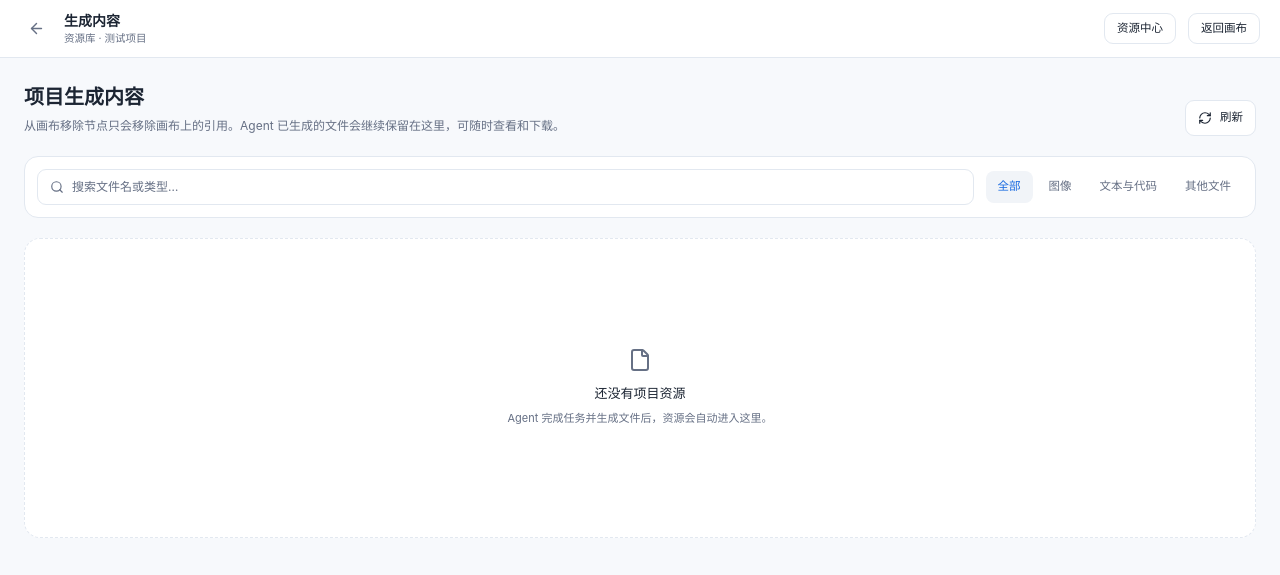
Test case: ResourceLibraryContent › shows an honest empty state and partial catalog notice
Click the button "刷新".
click(1220, 118)  # box x1=1185 y1=100 x2=1256 y2=136
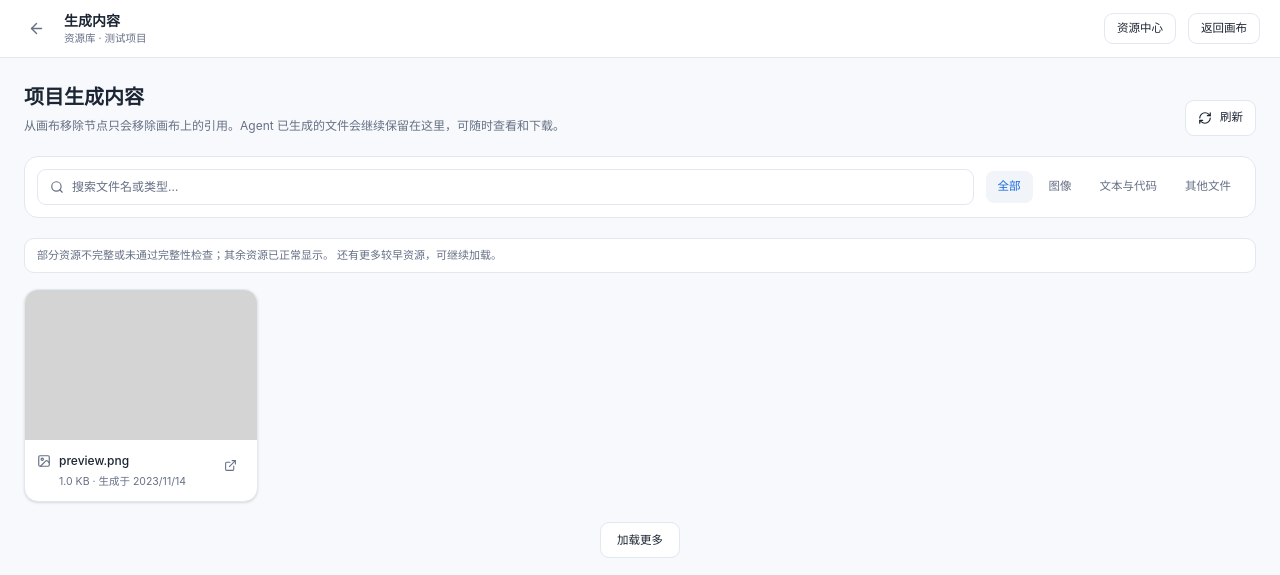
Expected: the text "部分资源不完整或未通过完整性检查" is shown, x1=37 y1=248 x2=334 y2=262
Expected: the text "还有更多较早资源" is shown, x1=337 y1=248 x2=502 y2=262
